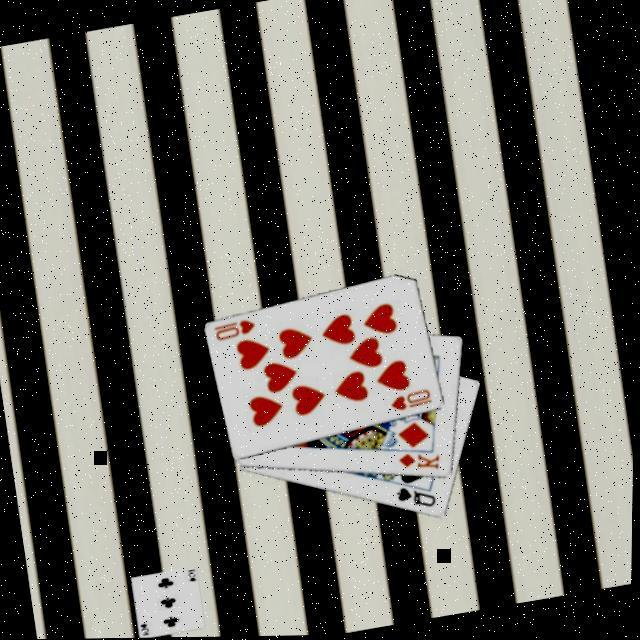10H: (386, 388, 436, 418), (211, 317, 261, 347)
KD: (394, 448, 446, 483)
QS: (392, 481, 440, 519)
